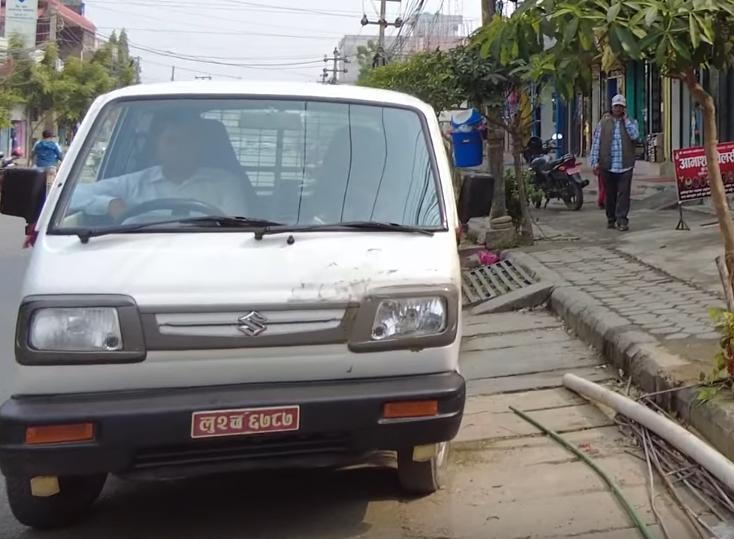van: (12, 74, 475, 517)
